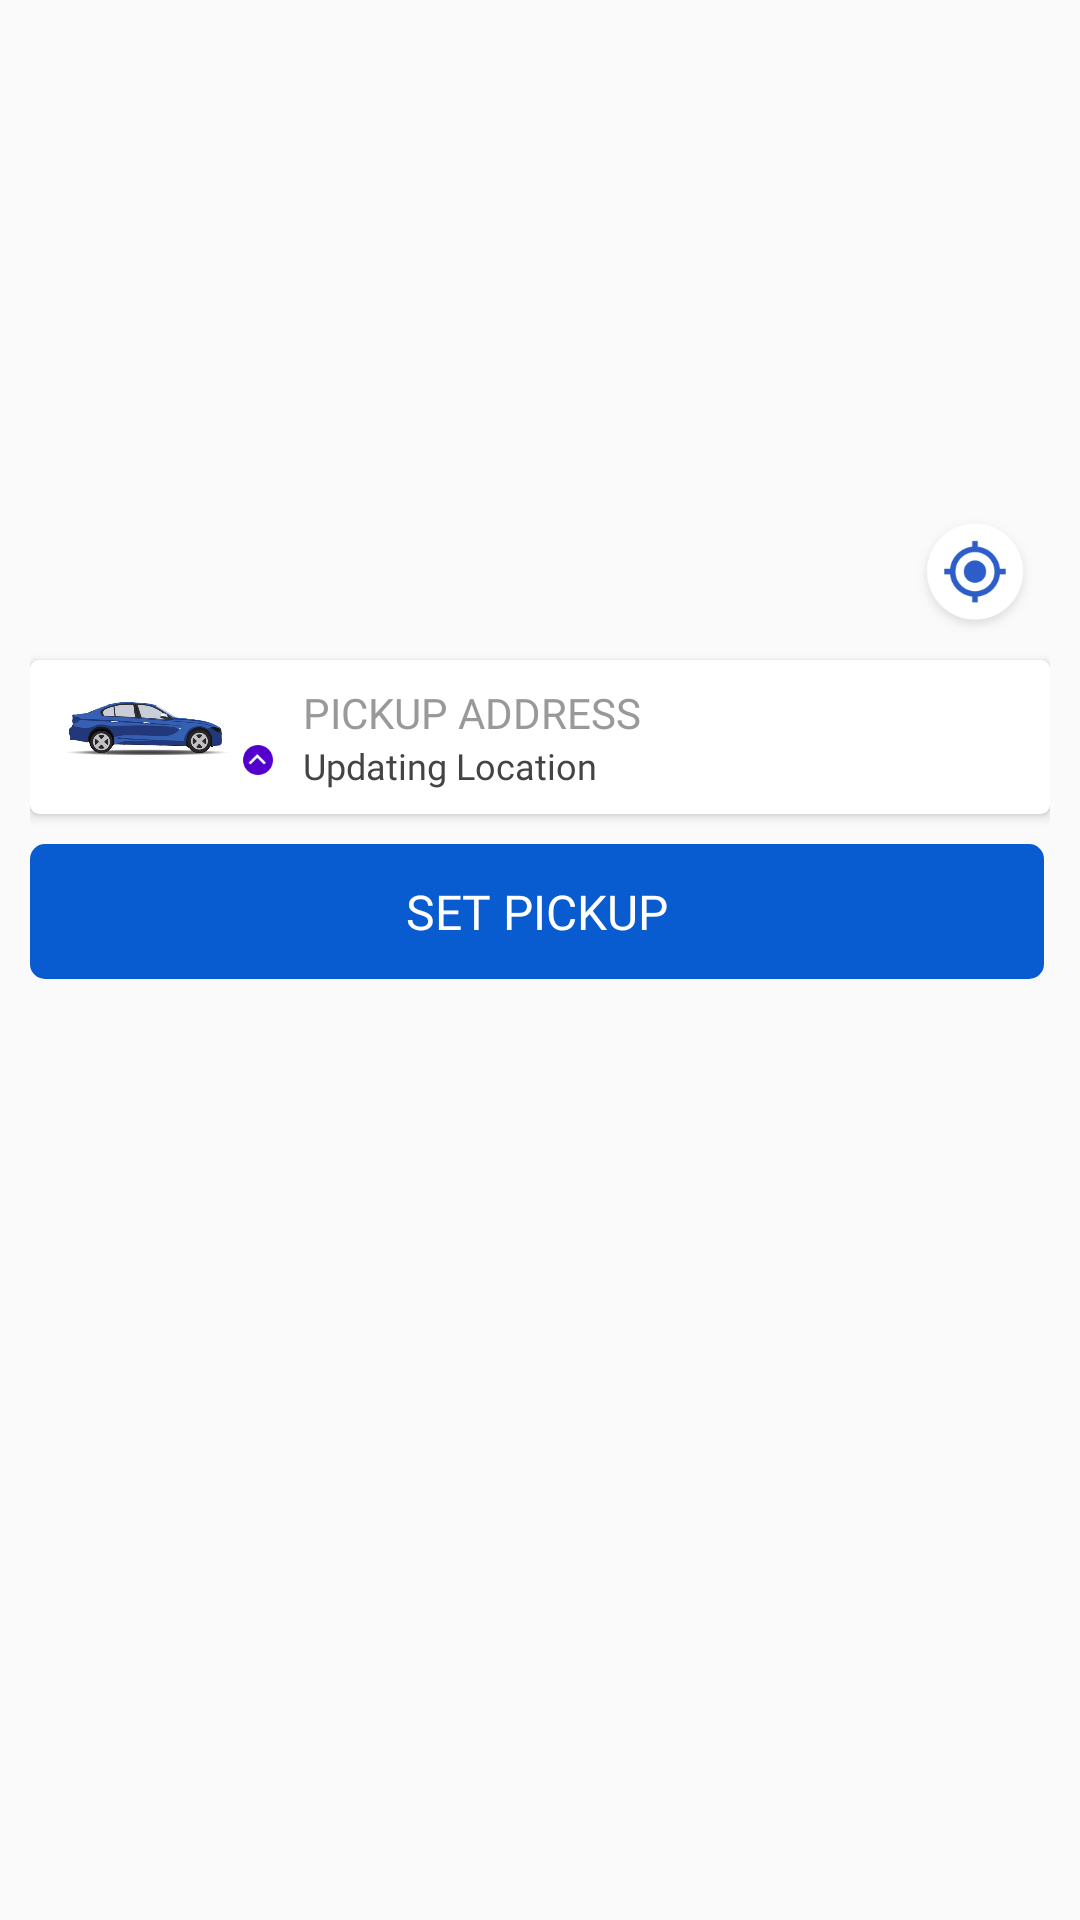

Screen size 1080×1920. Icon name, then its center in pixels as [x,y]:
map pointer: [975,572]
up arrow: [258,760]
vehicle: [146,728]
